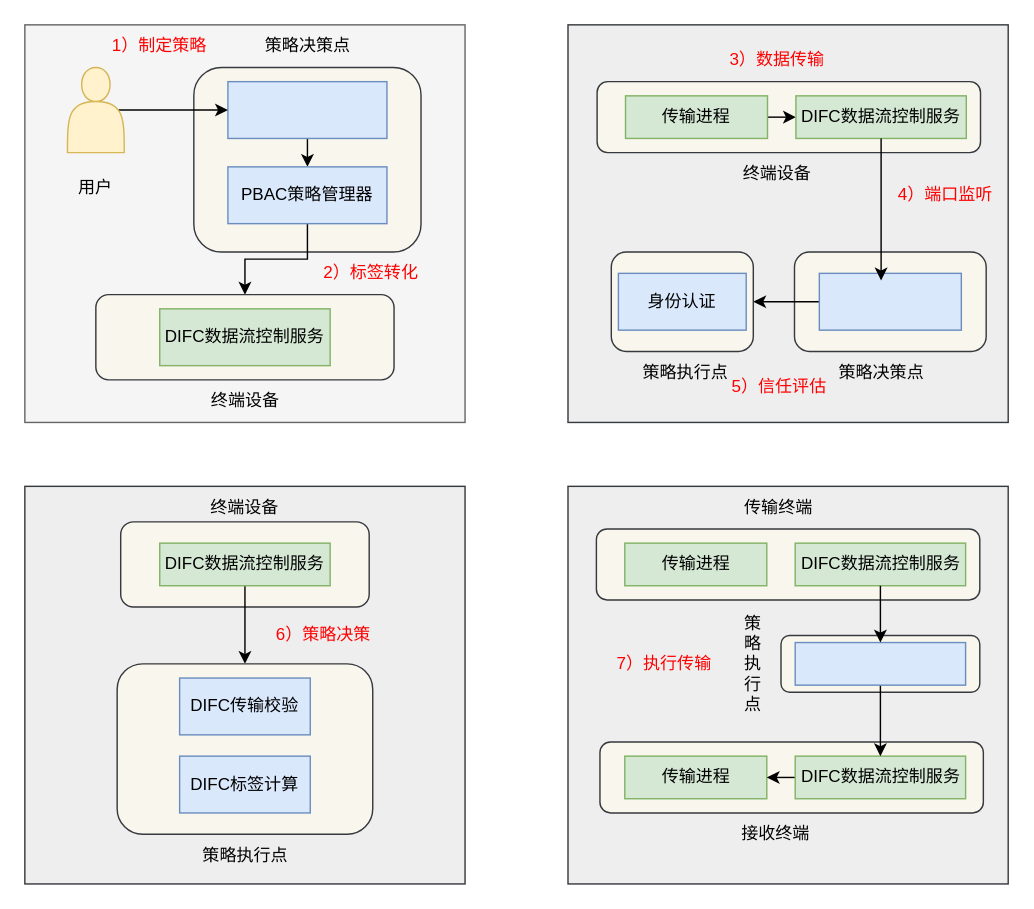
Image size: 1034x909. Some labels were removed from this diagram. Here are the shapes that lost their labels. From the top down, the box of each, then its label:
(226, 80, 387, 138): PBAC策略信息库
(818, 272, 961, 330): 信任评估引擎
(794, 641, 966, 685): 数据流转发
